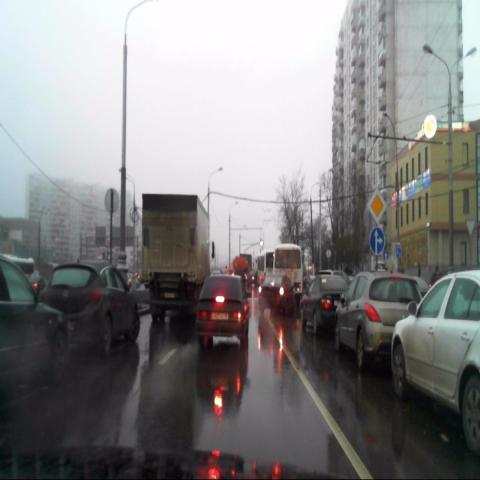2_1: (368, 190, 386, 224)
4_1_4: (369, 227, 385, 255)
